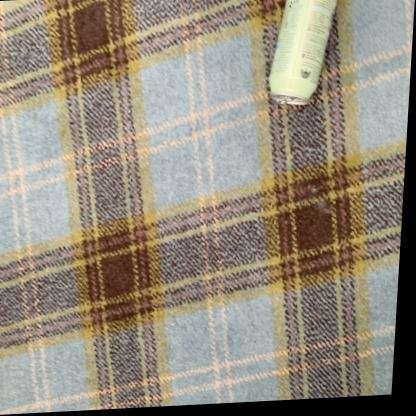trash: (269, 0, 335, 104)
